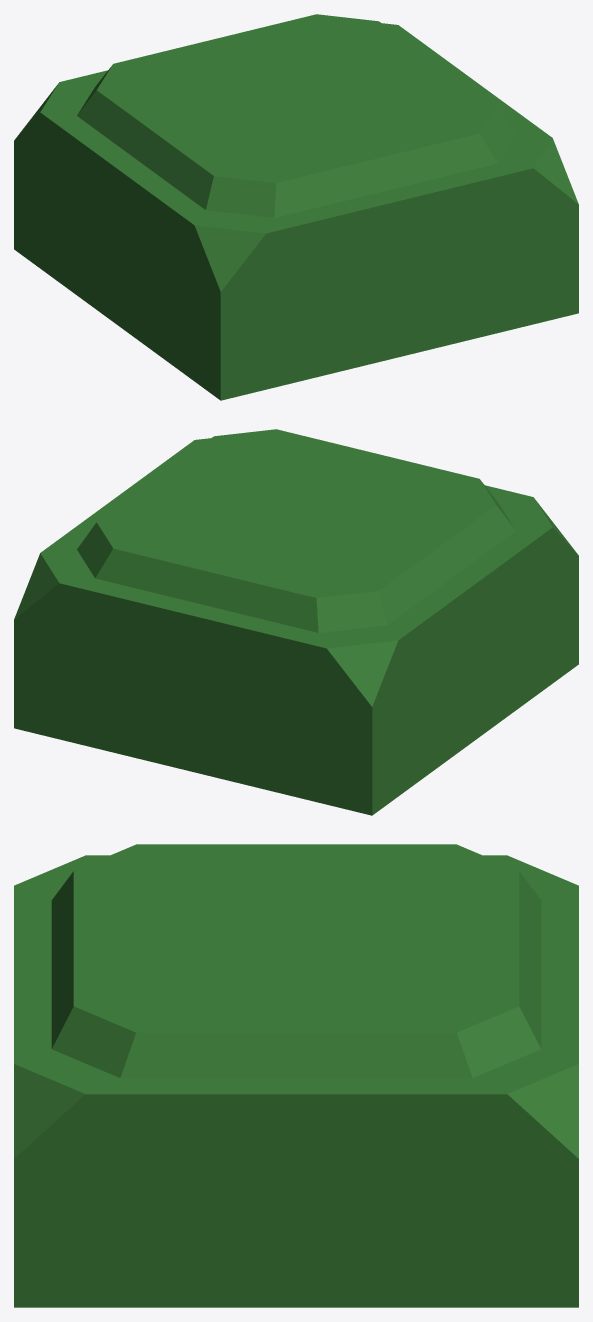
Rendered from OBJ_Trigger_A.FBX.
3 views of the same model, one above another, from view 1: azimuth 30°, elevation 25°; view 2: azimuth 150°, elevation 25°; view 3: azimuth 270°, elevation 25° (orthographic). The views are drawn at different scales.
Visible parts, largest first — view 1: OBJ_Trigger_A_01, OBJ_Trigger_A_02; view 2: OBJ_Trigger_A_01, OBJ_Trigger_A_02; view 3: OBJ_Trigger_A_01, OBJ_Trigger_A_02.
Part boxes in pixels (x1,y1,x2,y2): OBJ_Trigger_A_01: [14, 23, 578, 400]; OBJ_Trigger_A_02: [77, 14, 515, 217]; OBJ_Trigger_A_01: [14, 438, 578, 815]; OBJ_Trigger_A_02: [77, 429, 515, 632]; OBJ_Trigger_A_01: [14, 855, 578, 1307]; OBJ_Trigger_A_02: [51, 844, 541, 1078].
Size of the model in its own units: 6 by 2.92 by 6.
